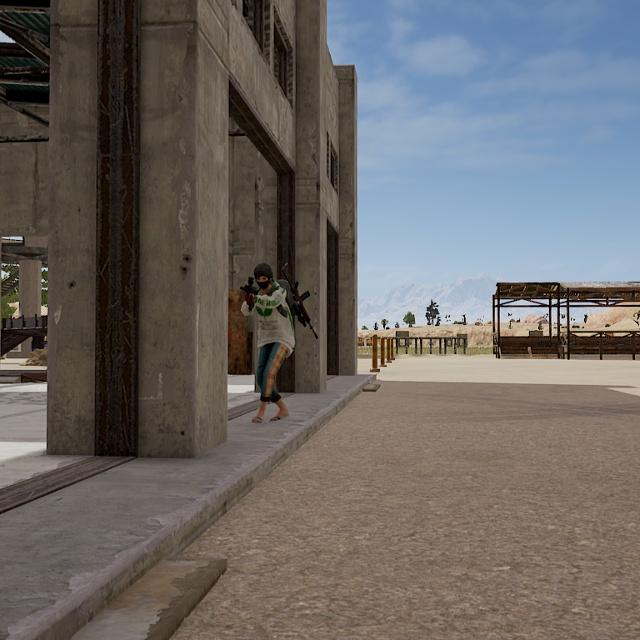head: (250, 260, 275, 291)
people: (239, 258, 302, 426)
